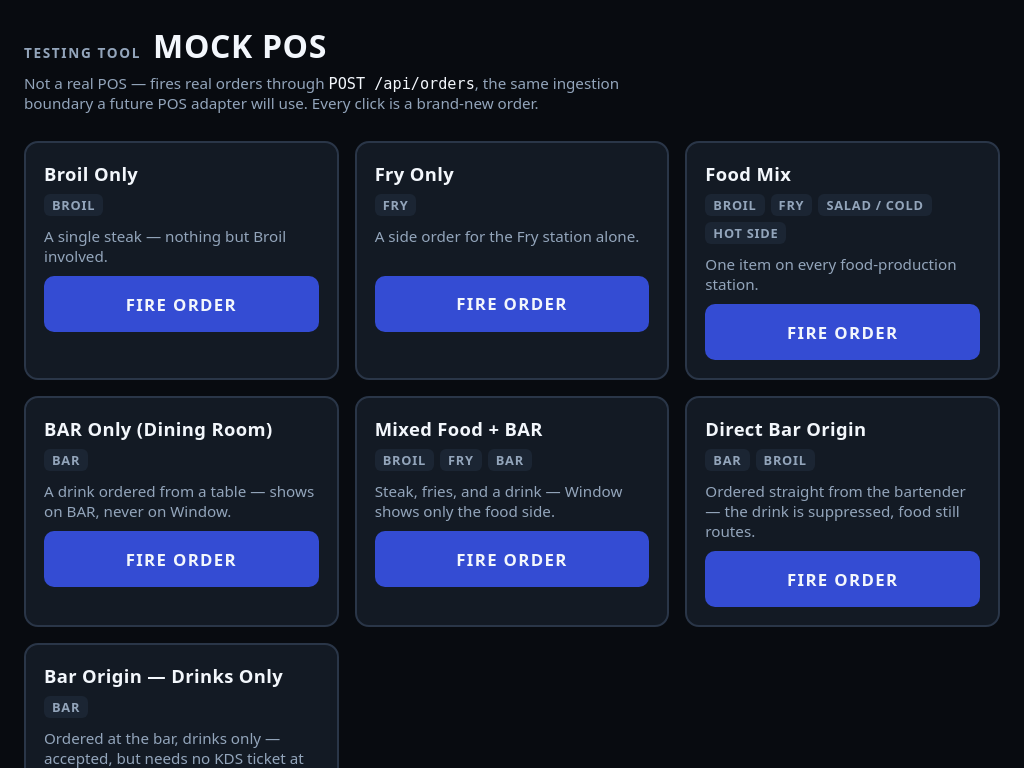
MockPosPage › surfaces a network failure cleanly instead of pretending the order was created
The image size is (1024, 768).
Click the button "FIRE ORDER" below "Broil Only" at (181, 304), box top-left (44, 276), bottom-right (319, 332)
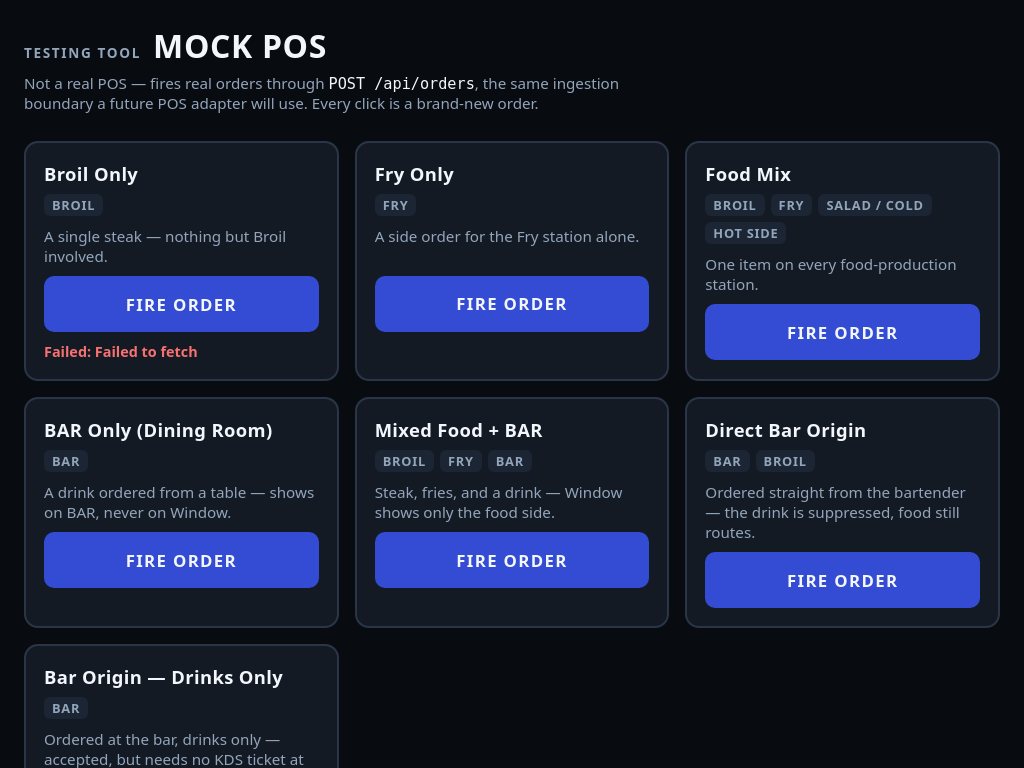
Now the text "Failed: Failed to fetch" is shown, box top-left (44, 342), bottom-right (198, 361)
